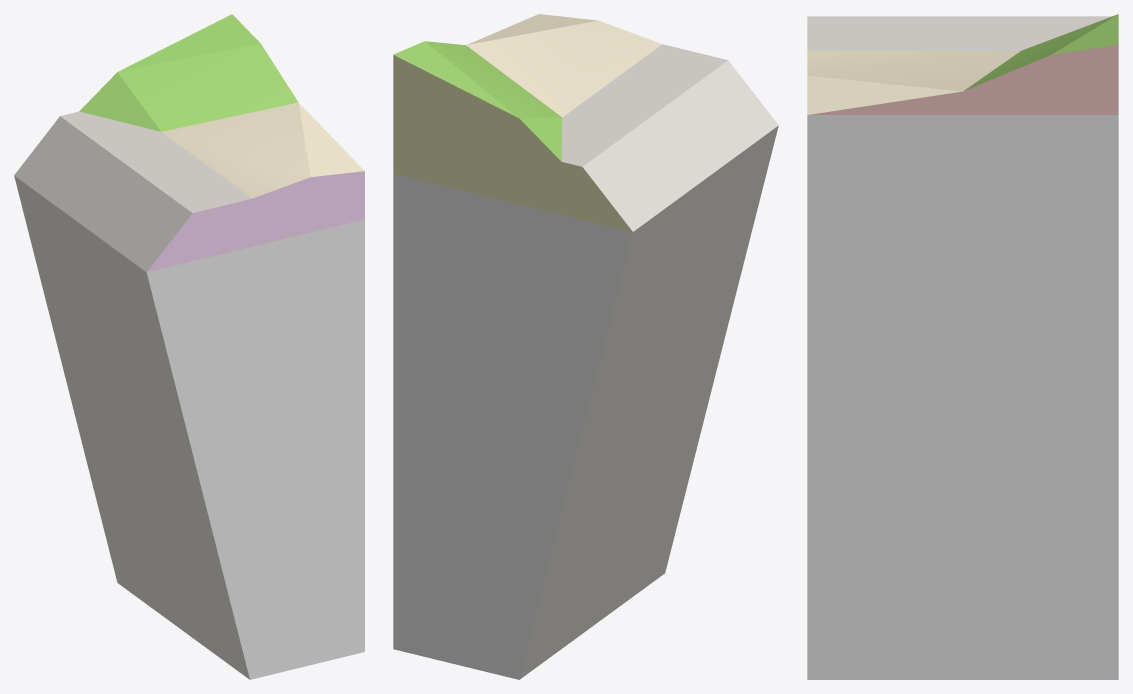
File: Path_End_Edge_Top_1x1.fbx
3 views of the same model, side by side, from view 1: azimuth 30°, elevation 25°; view 2: azimuth 150°, elevation 25°; view 3: azimuth 270°, elevation 25° (orthographic). The views are drawn at different scales.
Parts seen in each view (by area): view 1: Path_End_Edge_Top_1x1; view 2: Path_End_Edge_Top_1x1; view 3: Path_End_Edge_Top_1x1.
Boxes of the visible parts, x1=… form: Path_End_Edge_Top_1x1: x1=14, y1=14, x2=364, y2=679; Path_End_Edge_Top_1x1: x1=393, y1=14, x2=778, y2=679; Path_End_Edge_Top_1x1: x1=807, y1=14, x2=1118, y2=679.
Size of the model in its own units: 95 by 225 by 100.
